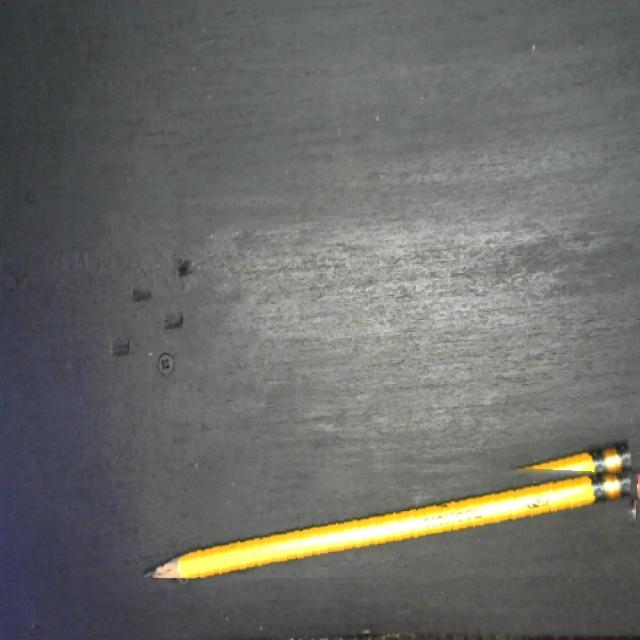biodegradable: (138, 448, 638, 578)
